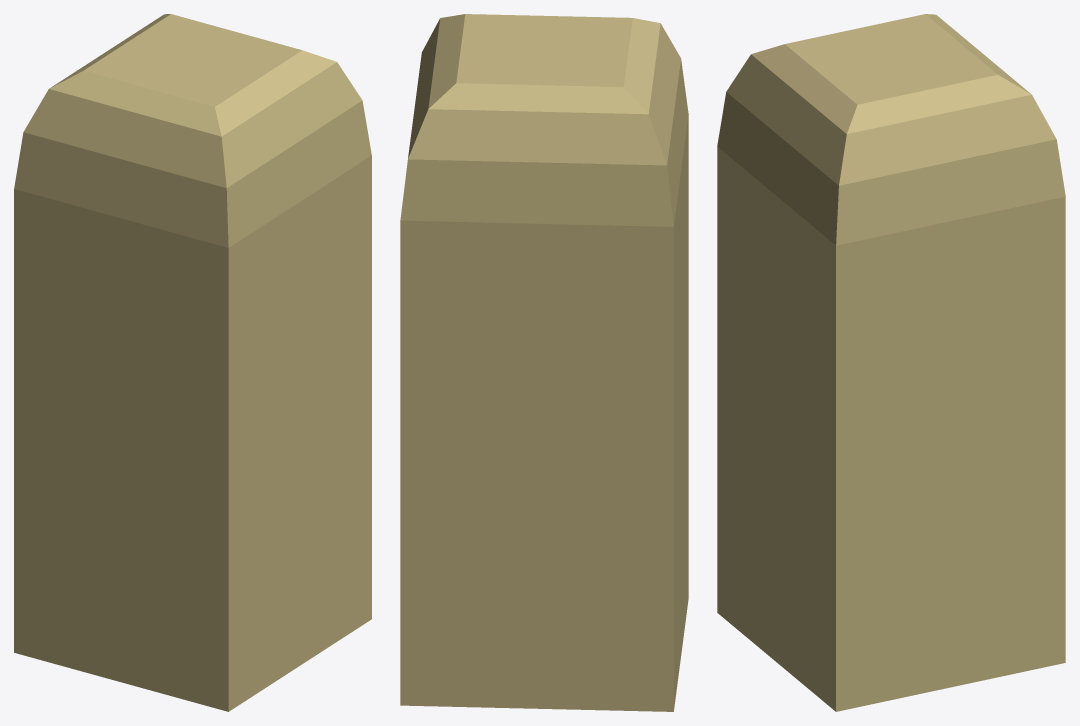
The picture shows the model from 3 angles, left to right: view 1: azimuth 30°, elevation 25°; view 2: azimuth 150°, elevation 25°; view 3: azimuth 270°, elevation 25°; orthographic projection. The views are drawn at different scales.
Parts seen in each view (by area): view 1: Cube.012; view 2: Cube.012; view 3: Cube.012.
Boxes of the visible parts, x1,y1,x2,y2 form: Cube.012: [14, 14, 371, 711]; Cube.012: [400, 14, 688, 711]; Cube.012: [717, 14, 1065, 711].
Size of the model in its own units: 0.0739 by 0.1344 by 0.0734.
